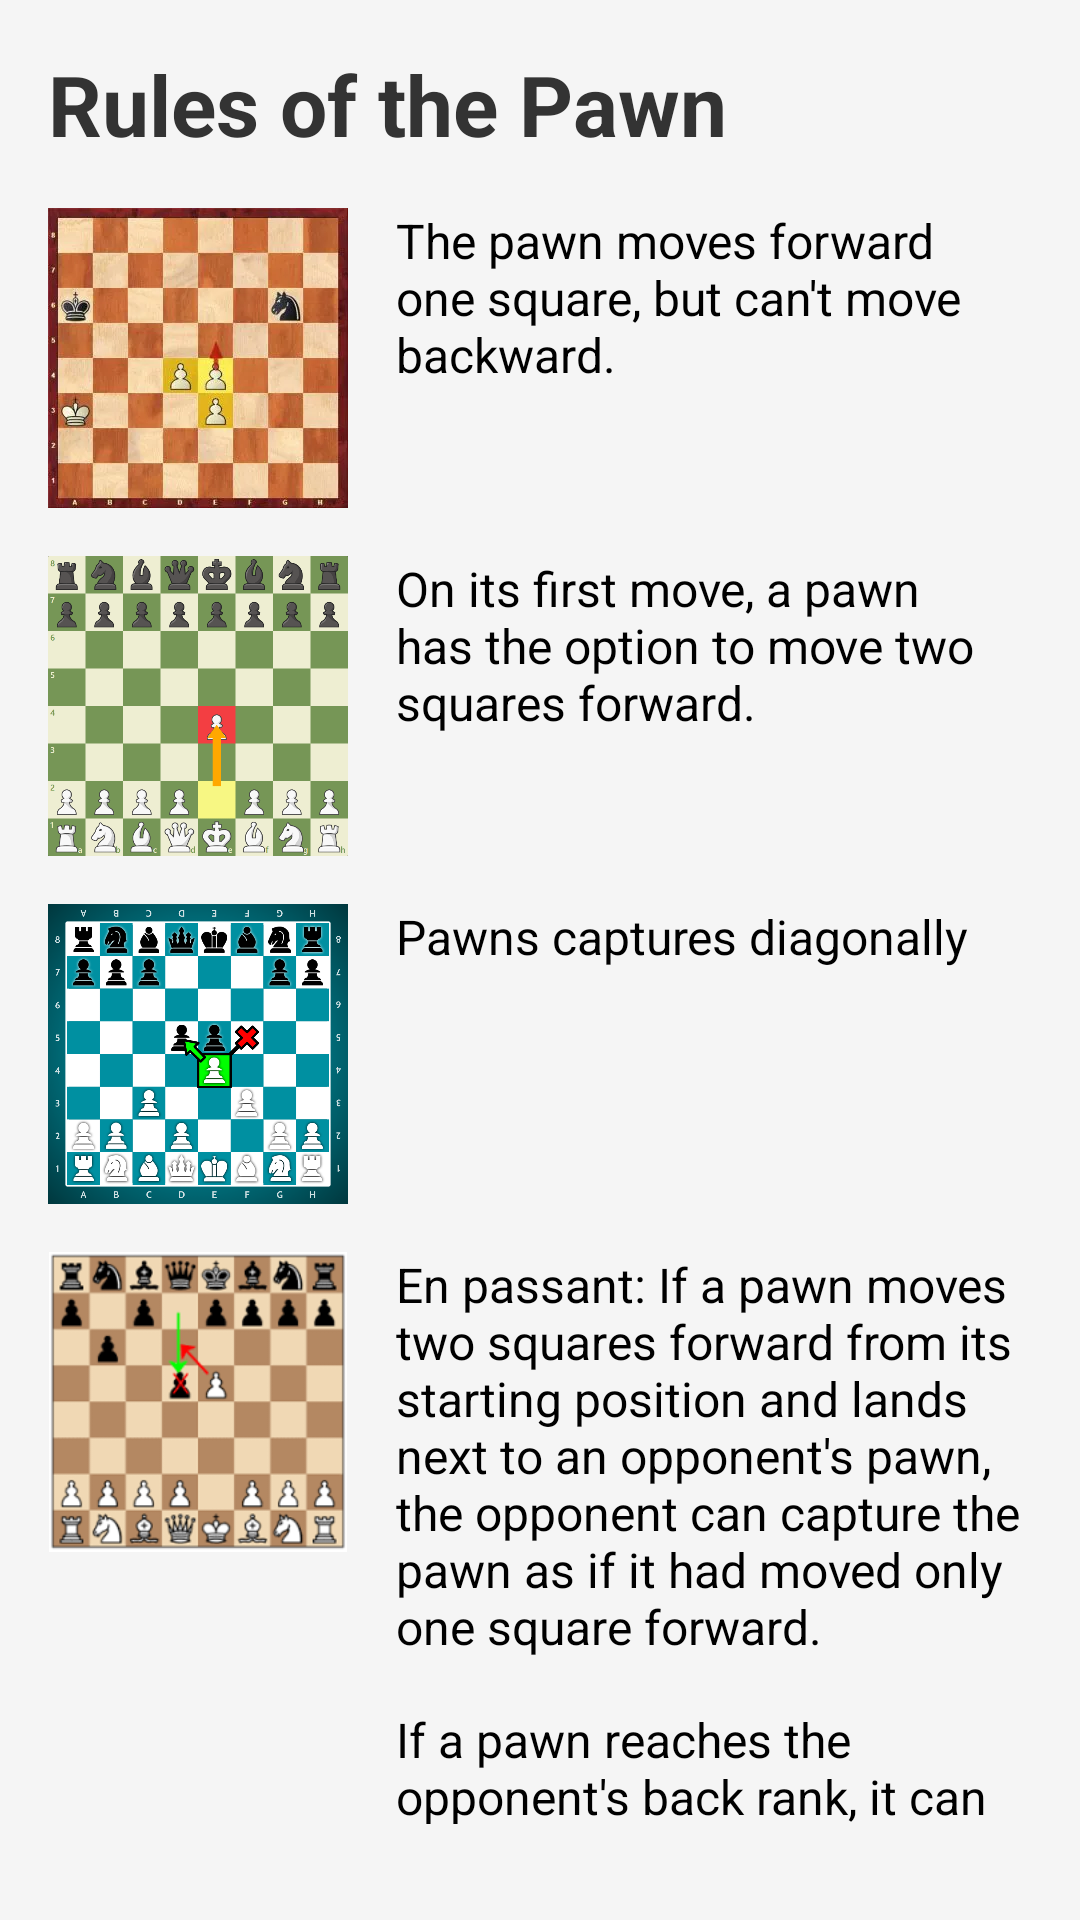

Where to tap for icons on this 1080px×1920px app screen, as point (x, y):
enpassent: point (198, 1402)
pawneat: point (198, 1054)
pawnnormal: point (198, 358)
pawnopen: point (198, 706)
